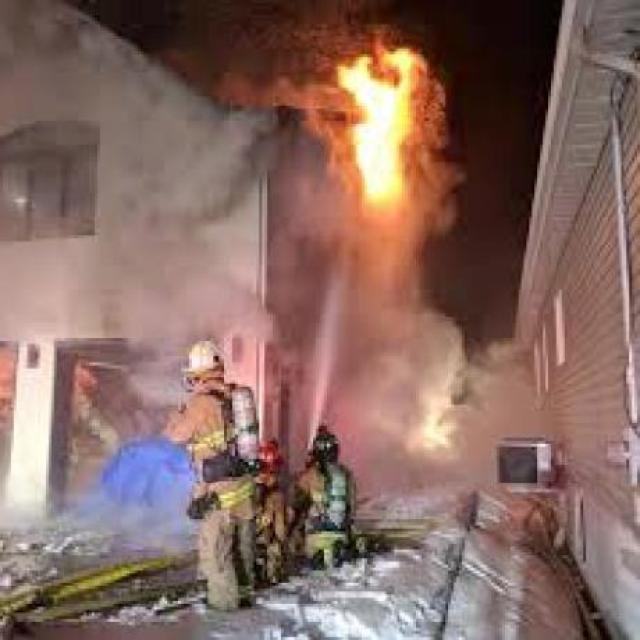Fire: (328, 35, 442, 225)
Smoke: (122, 46, 310, 383), (328, 257, 546, 488)
